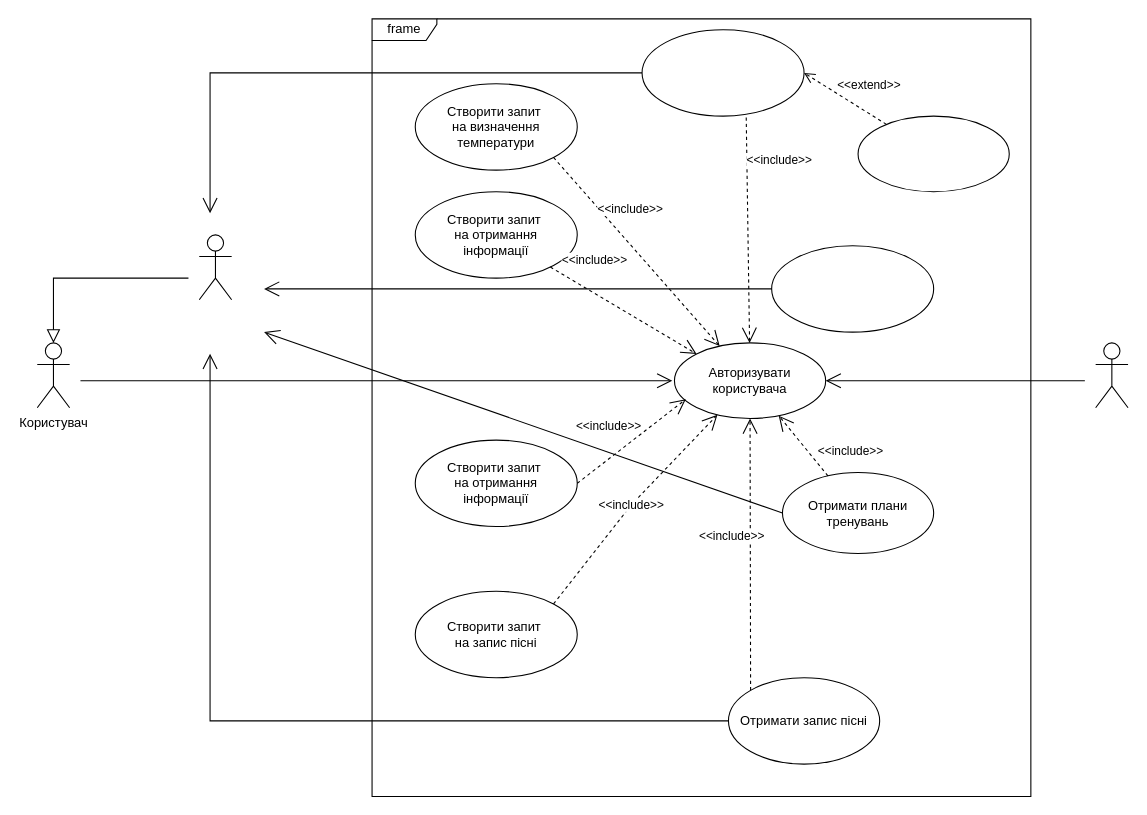
Image size: 1147x815. Some labels were removed from this diagram. Each missing label, with the centre of its shape:
Автор-споживач: [215,267]
АРІ: [1111,375]
Отримати температуру навколишнього сережовища: [722,72]
Отримати інформацію: [852,288]
Провести вимірювання: [933,153]
